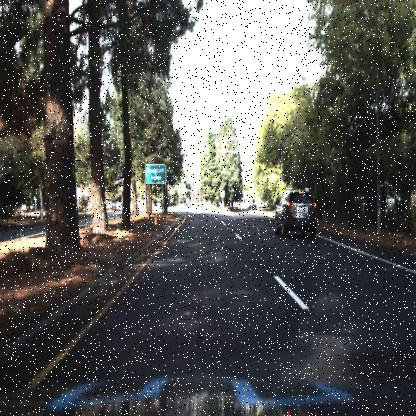car: (274, 183, 318, 239)
